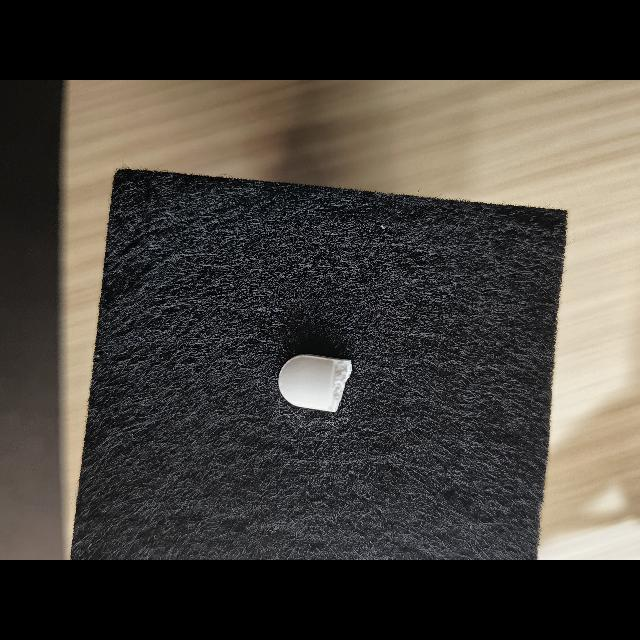Chipped Pill: (278, 354, 352, 412)
